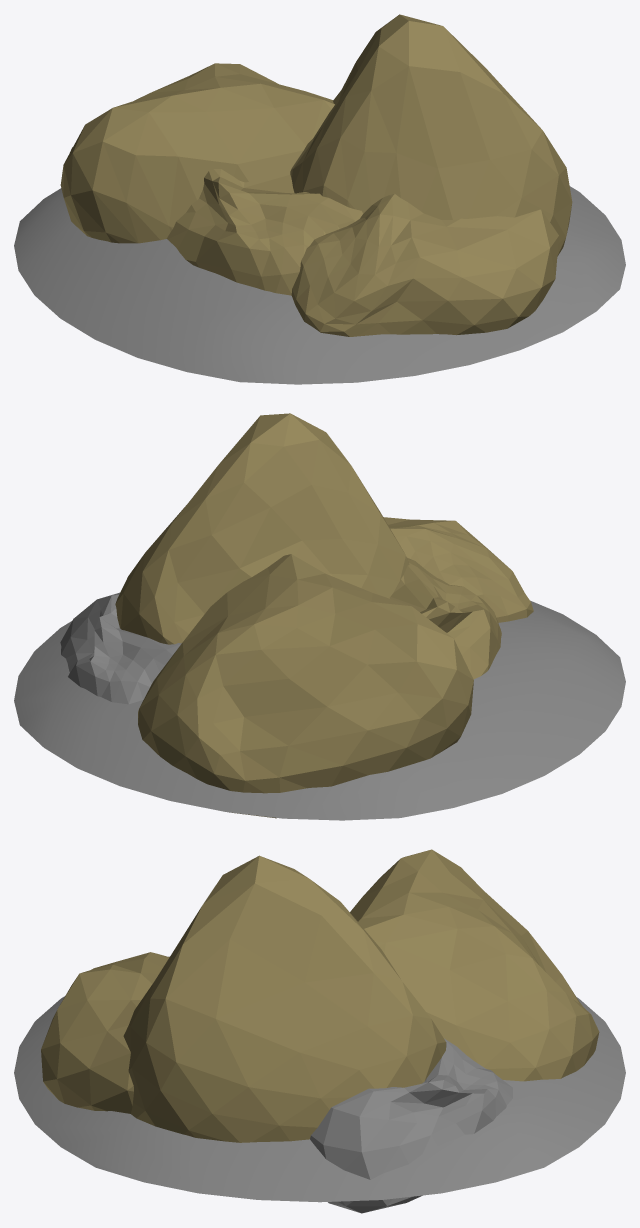
Rendered from Rock_brown.fbx.
3 renders of one model, top to bottom at view 1: azimuth 30°, elevation 25°; view 2: azimuth 150°, elevation 25°; view 3: azimuth 270°, elevation 25°, orthographic. The views are drawn at different scales.
Visible parts, largest first — view 1: Icosphere.067; view 2: Icosphere.067; view 3: Icosphere.067.
Part boxes in pixels (bbox=[...]): Icosphere.067: bbox=[14, 14, 625, 384]; Icosphere.067: bbox=[14, 413, 625, 820]; Icosphere.067: bbox=[14, 849, 625, 1213].
Bounding box in the file's own units: 801 × 417 × 801.
